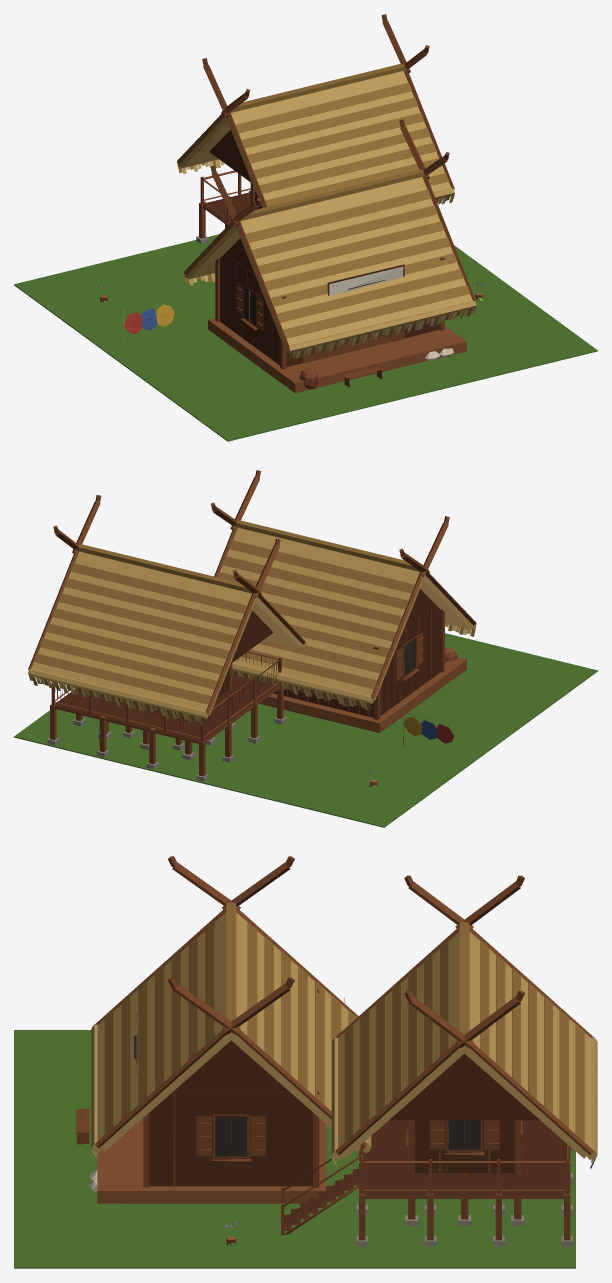
File: shop_2.glb
3 views of the same model, one above another, from view 1: azimuth 30°, elevation 25°; view 2: azimuth 150°, elevation 25°; view 3: azimuth 270°, elevation 25° (orthographic). The views are drawn at different scales.
Visible parts, largest first — view 1: body; view 2: body; view 3: body, windows.
Part boxes in pixels (x1=…): body: x1=14, y1=14, x2=597, y2=441; body: x1=14, y1=470, x2=597, y2=827; body: x1=14, y1=856, x2=597, y2=1268; windows: x1=215, y1=1116, x2=480, y2=1156.
Size of the model in its own units: 15.9 by 8.5 by 16.52.
